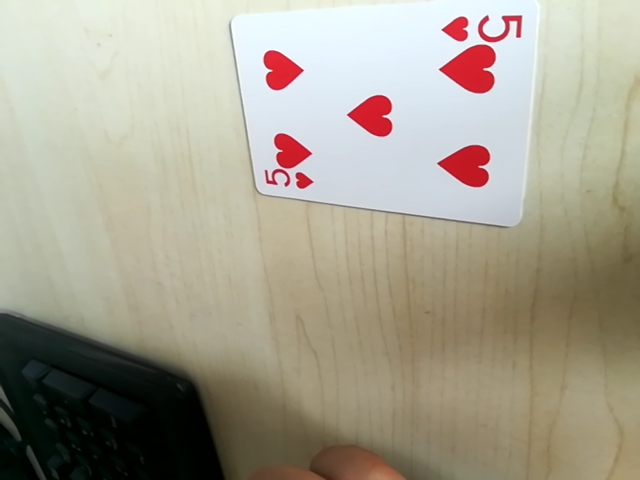hx 5: (439, 6, 527, 45), (258, 166, 318, 194)
